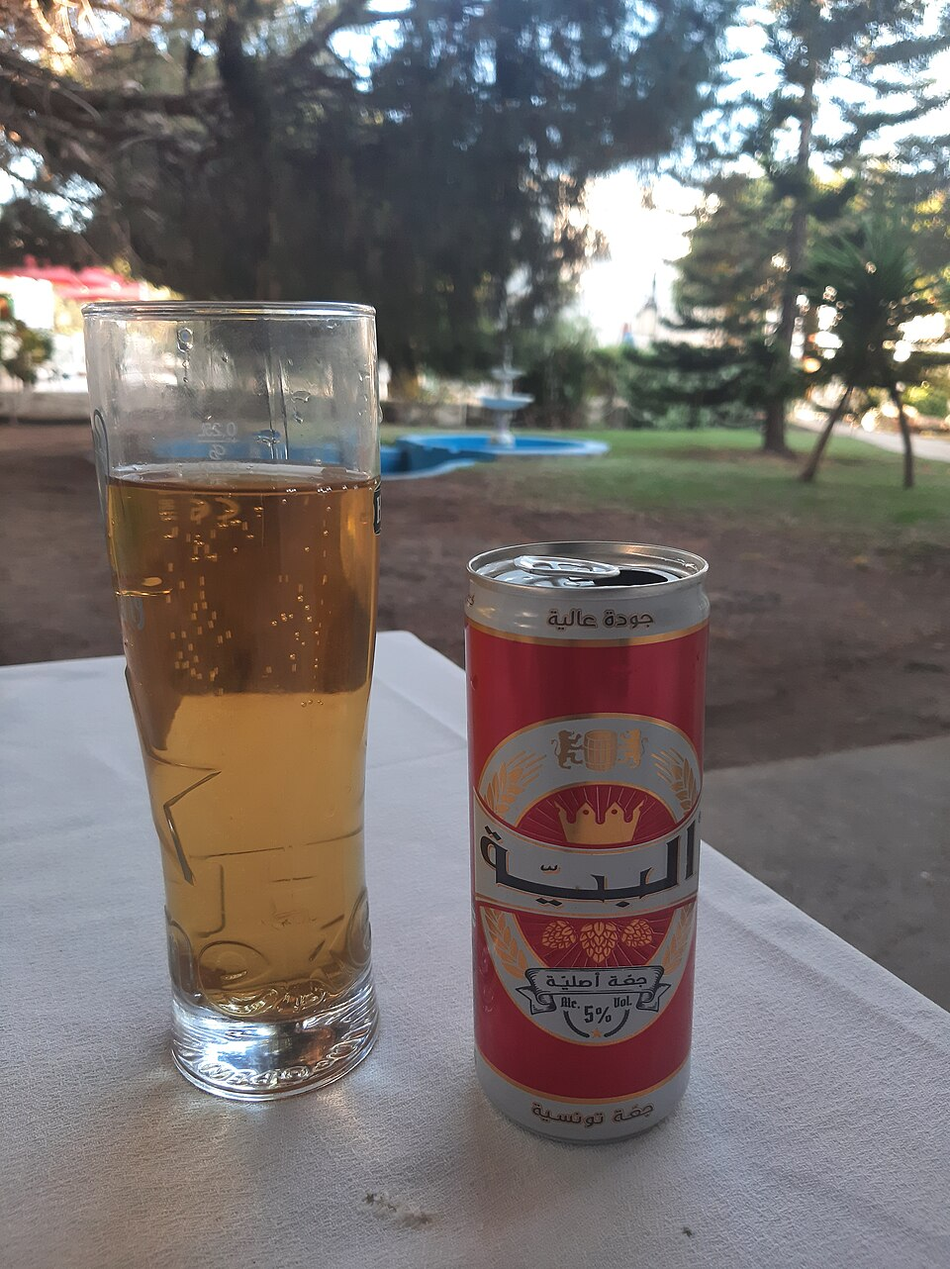beer-can: (459, 577, 712, 1152)
